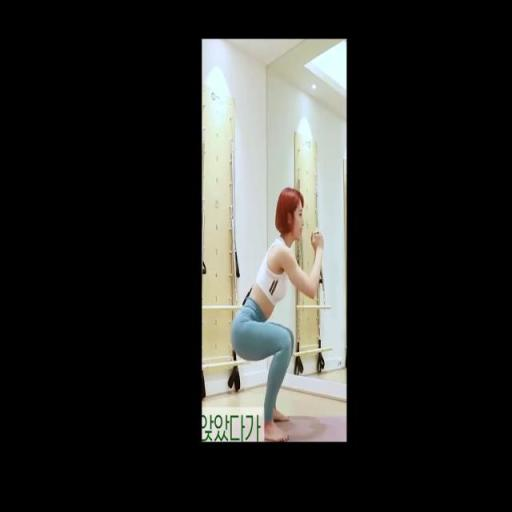Normal_BrenchPress: (228, 189, 325, 443)
